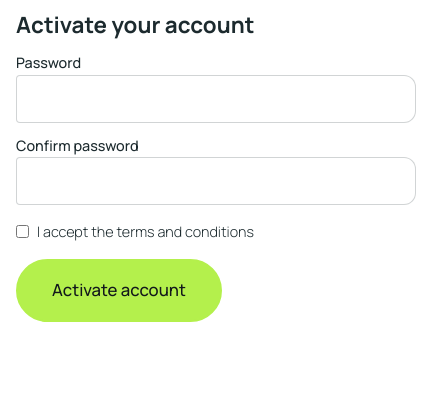
it: InviteActivationPage › shows a token-specific message for an expired invite, not the mismatch copy
Type "password1" into the password field labelled "Password" at x=216, y=99, box x1=16 y1=75 x2=416 y2=123
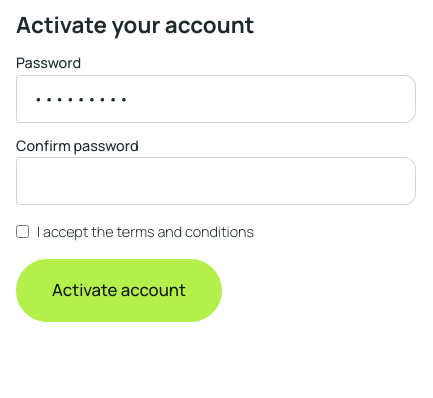
Type "password1" into the password field labelled "Confirm password" at x=216, y=181, box x1=16 y1=157 x2=416 y2=205
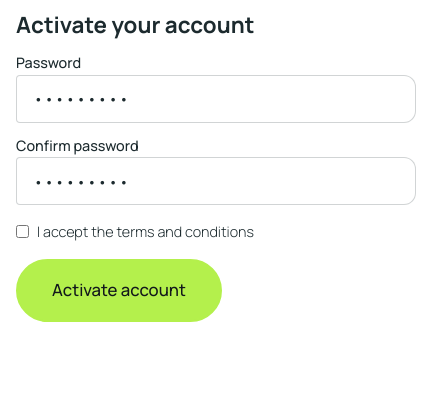
Click the checkbox labelled "I accept the terms and conditions" at x=22, y=232, box x1=16 y1=226 x2=29 y2=238
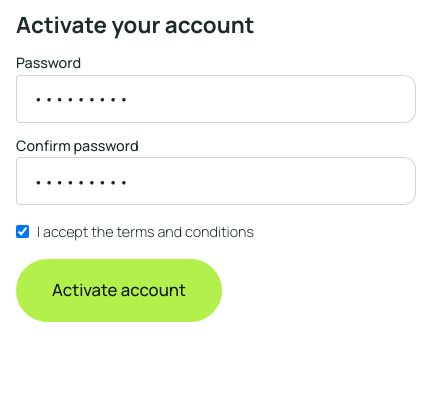
Click the button "Activate account" at x=119, y=290, box x1=16 y1=259 x2=222 y2=322
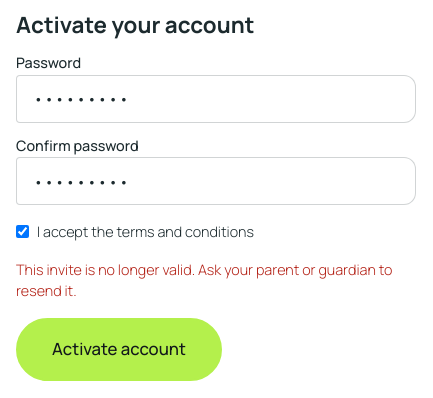
Expected: the text "This invite is no longer valid. Ask your parent or guardian to resend it." is shown, x1=16 y1=259 x2=416 y2=302
